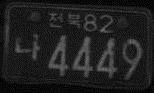2: (99, 13, 115, 34)
4: (47, 33, 68, 76), (95, 36, 117, 77), (72, 36, 93, 77)
8: (83, 12, 97, 32)
9: (121, 38, 142, 81)
나: (15, 31, 40, 60)
전북_O: (48, 11, 82, 29)
